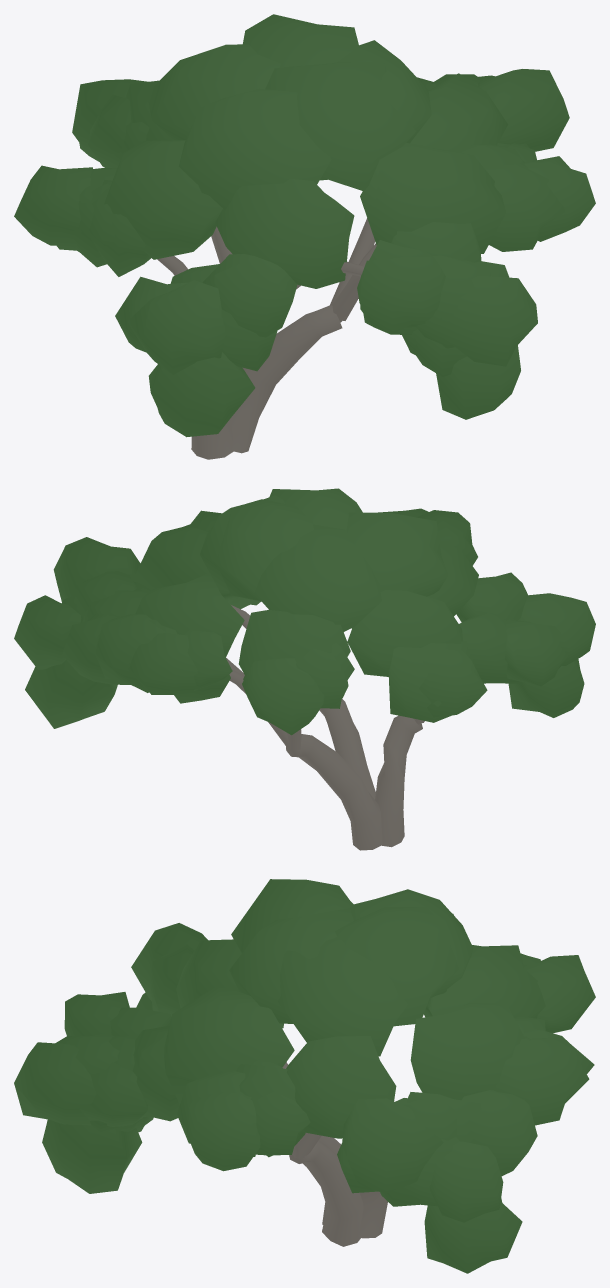
Rendered from Blender_CoastLiveOak_2.glb.
3 renders of one model, top to bottom at view 1: azimuth 30°, elevation 25°; view 2: azimuth 150°, elevation 25°; view 3: azimuth 270°, elevation 25°, orthographic. The views are drawn at different scales.
Parts seen in each view (by area): view 1: Blender_CoastLiveOak_2; view 2: Blender_CoastLiveOak_2; view 3: Blender_CoastLiveOak_2.
Part boxes in pixels (x1=…): Blender_CoastLiveOak_2: x1=14, y1=14, x2=595, y2=459; Blender_CoastLiveOak_2: x1=14, y1=488, x2=595, y2=850; Blender_CoastLiveOak_2: x1=14, y1=879, x2=595, y2=1273.
Size of the model in its own units: 14.57 by 10.08 by 14.43.
